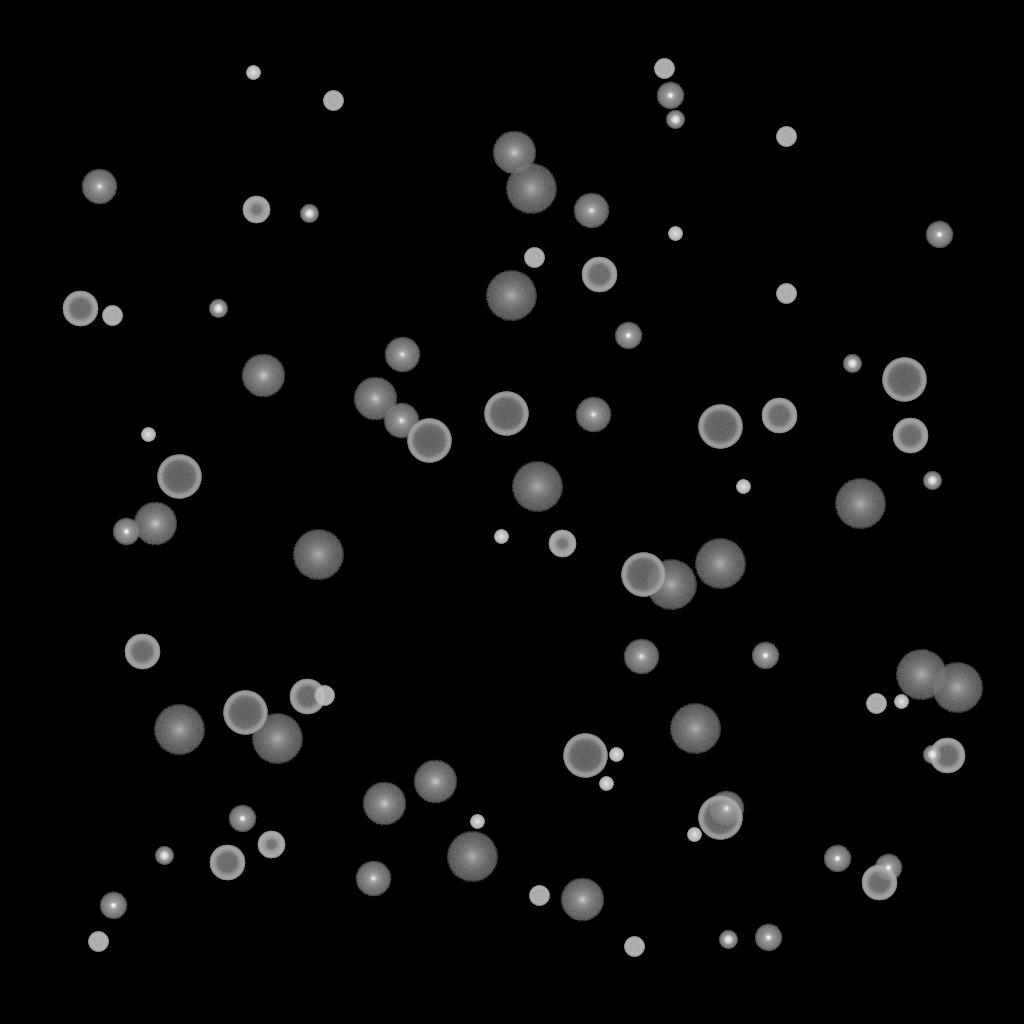depth:-10: (614, 322, 642, 350), (751, 642, 779, 670), (823, 845, 851, 873), (925, 221, 953, 249), (99, 892, 127, 920), (754, 924, 782, 952), (228, 805, 256, 833), (656, 82, 684, 110), (874, 854, 902, 882), (112, 518, 140, 546)
depth:-20: (923, 746, 941, 764), (209, 300, 227, 318), (719, 931, 737, 949), (923, 472, 941, 490), (300, 205, 318, 223), (155, 847, 173, 865), (666, 111, 684, 129), (843, 355, 861, 373)
depth:-30: (494, 530, 508, 544), (246, 66, 260, 80), (687, 828, 701, 842), (894, 695, 908, 709), (668, 227, 682, 241), (736, 480, 750, 494), (141, 428, 155, 442), (609, 748, 623, 762), (599, 777, 613, 791), (470, 815, 484, 829)
depth:-40: (524, 248, 544, 268), (776, 284, 796, 304), (654, 59, 674, 79), (314, 686, 334, 706), (323, 91, 343, 111), (624, 937, 644, 957), (866, 694, 886, 714), (529, 886, 549, 906), (102, 306, 122, 326), (776, 127, 796, 147), (88, 932, 108, 952)
depth:-50: (257, 831, 285, 859), (242, 196, 270, 224), (548, 530, 576, 558)
depth:-60: (124, 634, 160, 670), (62, 291, 98, 327), (861, 865, 897, 901), (761, 398, 797, 434), (929, 738, 965, 774), (289, 679, 325, 715), (581, 257, 617, 293), (892, 418, 928, 454), (209, 845, 245, 881)
depth:-70: (563, 734, 607, 778), (484, 392, 528, 436), (223, 691, 267, 735), (698, 796, 742, 840), (157, 455, 201, 499), (407, 419, 451, 463), (698, 405, 742, 449), (621, 553, 665, 597), (882, 358, 926, 402)
depth:0: (575, 397, 611, 433), (81, 169, 117, 205), (708, 791, 744, 827), (623, 639, 659, 675), (383, 403, 419, 439), (355, 861, 391, 897), (573, 193, 609, 229), (384, 337, 420, 373)
depth:10: (492, 131, 536, 175), (413, 760, 457, 804), (353, 377, 397, 421), (241, 354, 285, 398), (133, 502, 177, 546), (560, 878, 604, 922), (362, 782, 406, 826)
depth:20: (645, 560, 697, 610), (895, 650, 947, 700), (446, 832, 498, 882), (669, 704, 721, 754), (834, 479, 886, 529), (251, 714, 303, 764), (292, 530, 344, 580), (153, 705, 205, 755), (511, 462, 563, 512), (931, 663, 983, 713), (505, 164, 557, 214), (485, 271, 537, 321), (694, 539, 746, 589)
